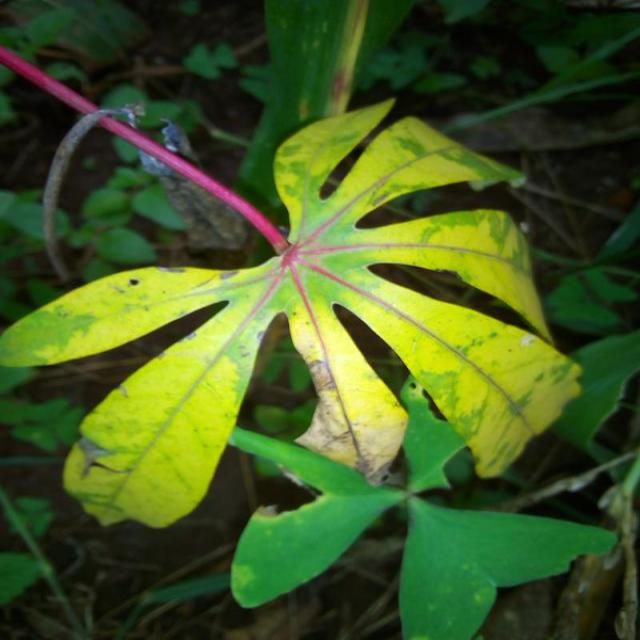cassava leaf: (1, 94, 583, 530)
